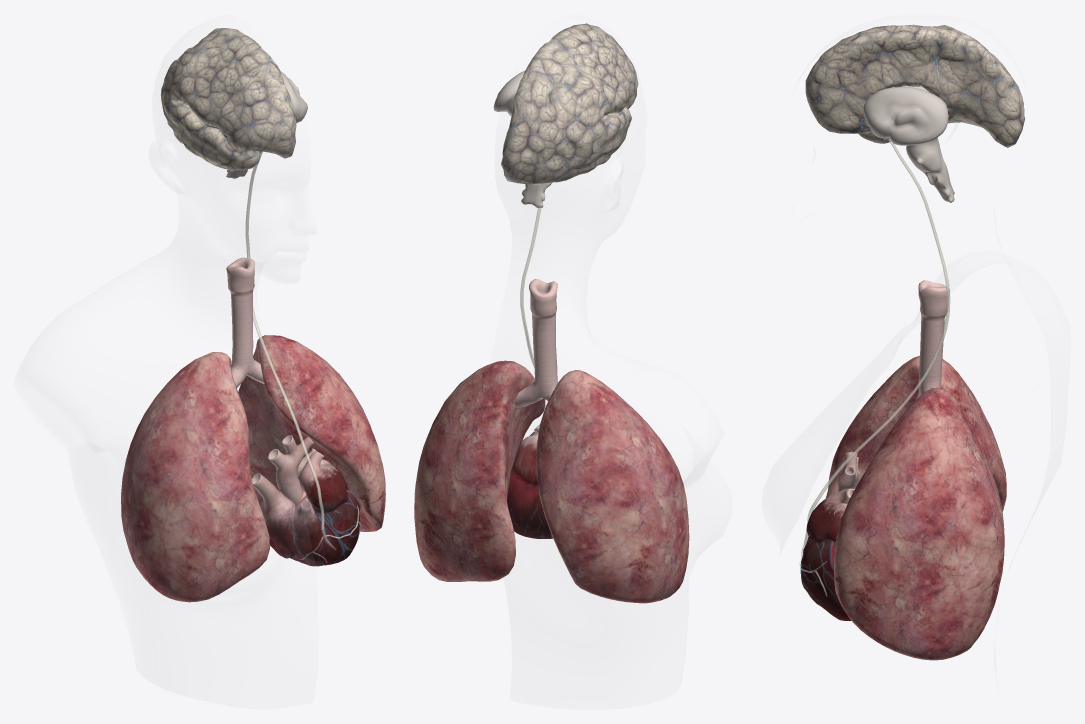
The model's file is human_stress_v01.gltf.
3 renders of one model, left to right at view 1: azimuth 30°, elevation 25°; view 2: azimuth 150°, elevation 25°; view 3: azimuth 270°, elevation 25°, orthographic. The views are drawn at different scales.
Visible parts, largest first — view 1: mesh_lungs, mesh_brain, mesh_heart, mesh_trachea, mesh_mid_brain; view 2: mesh_lungs, mesh_brain, mesh_heart, mesh_trachea, mesh_mid_brain; view 3: mesh_lungs, mesh_brain, mesh_heart, mesh_mid_brain, mesh_trachea.
Boxes of the visible parts, left/top/right/bottom form: mesh_lungs: left=121, top=335, right=385, bottom=602; mesh_brain: left=160, top=28, right=296, bottom=170; mesh_heart: left=245, top=151, right=360, bottom=566; mesh_trachea: left=226, top=257, right=264, bottom=388; mesh_mid_brain: left=226, top=71, right=307, bottom=178; mesh_lungs: left=414, top=360, right=689, bottom=603; mesh_brain: left=501, top=23, right=638, bottom=184; mesh_heart: left=507, top=190, right=552, bottom=538; mesh_trachea: left=515, top=279, right=557, bottom=407; mesh_mid_brain: left=493, top=70, right=552, bottom=207; mesh_lungs: left=826, top=355, right=1006, bottom=660; mesh_brain: left=805, top=24, right=1024, bottom=147; mesh_heart: left=799, top=138, right=950, bottom=620; mesh_mid_brain: left=863, top=86, right=954, bottom=202; mesh_trachea: left=915, top=280, right=949, bottom=399.
Size of the model in its own units: 0.3191 by 0.6217 by 0.2536.
Materials: 3 (1 with a texture image).
